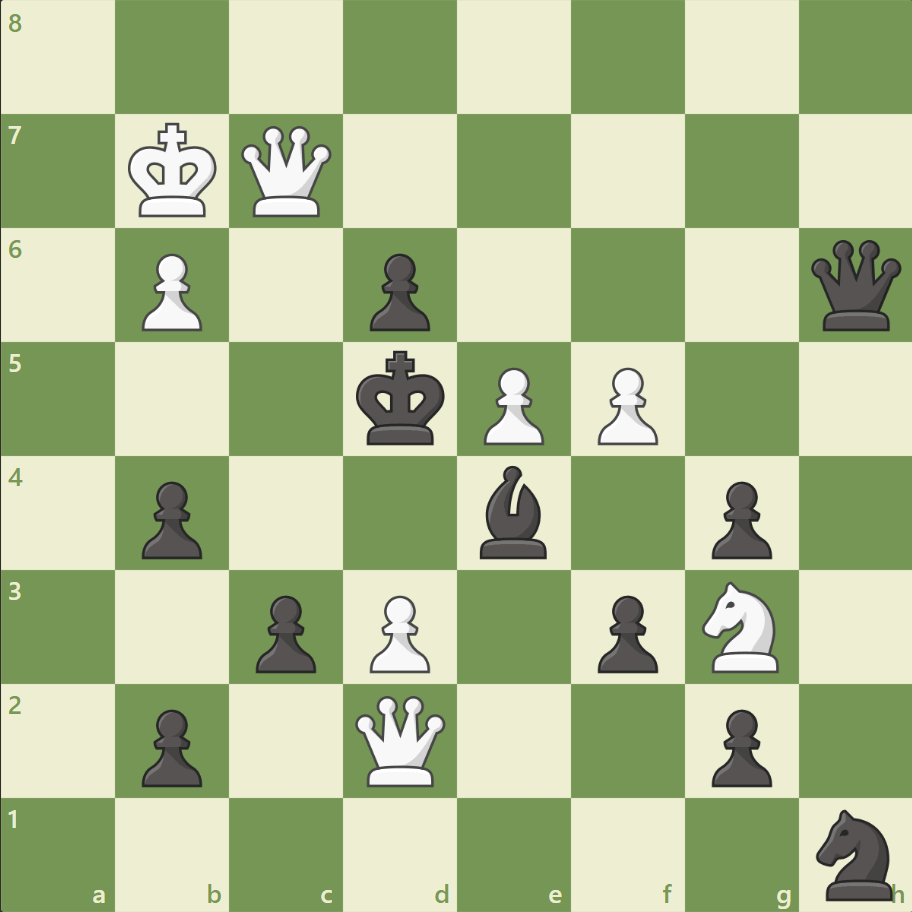K: (124, 117, 224, 225)
N: (692, 575, 789, 677)
P: (133, 246, 208, 337), (474, 359, 549, 450), (588, 359, 662, 450), (361, 586, 435, 677)
Q: (237, 122, 336, 222), (351, 690, 450, 789)
b: (471, 460, 555, 563)
k: (351, 344, 451, 452)
n: (806, 802, 903, 904)
p: (133, 473, 208, 564), (701, 473, 776, 564), (247, 586, 322, 677), (133, 700, 208, 791), (701, 700, 776, 791), (361, 246, 435, 337), (588, 586, 662, 677)
q: (805, 236, 904, 335)
